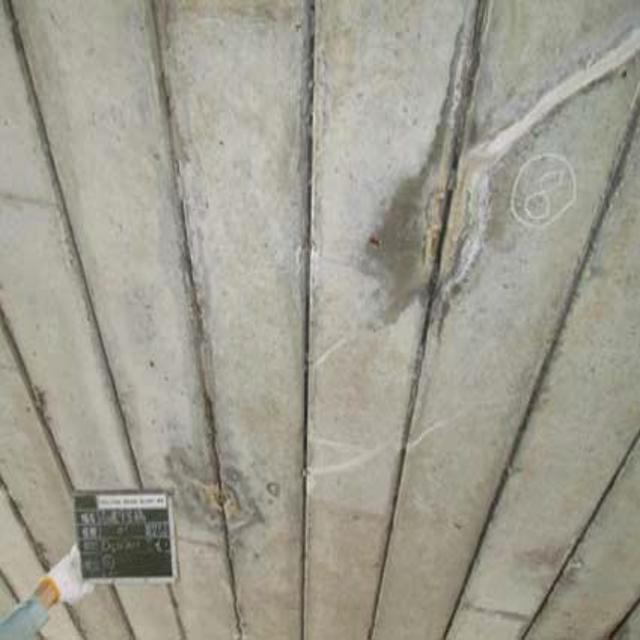freelime: (404, 37, 640, 299), (173, 456, 261, 541)
